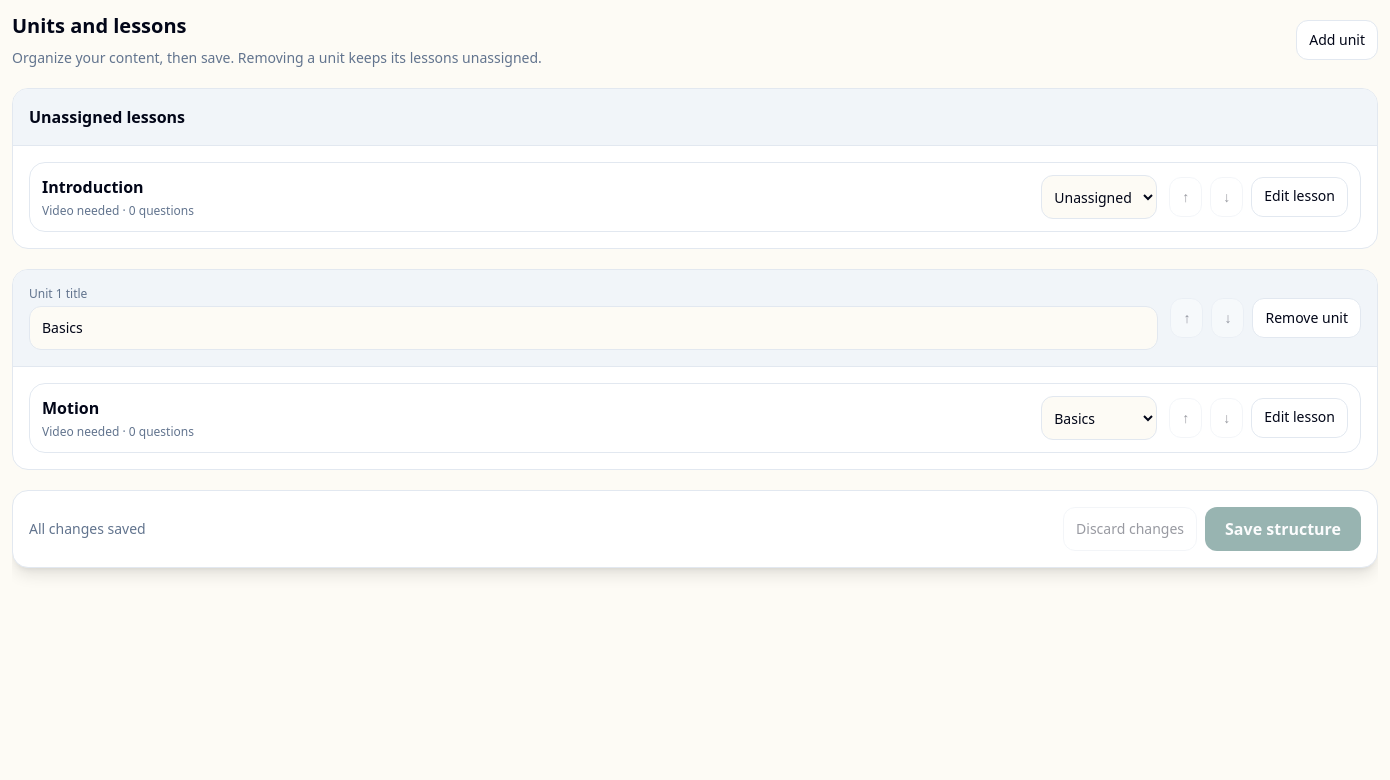
Scenario: course structure editor › moves lessons between units, and prevents overwriting a concurrent save
This screenshot has width=1390, height=780.
Select "Basics" in the dropdown named "Unit for Introduction" at (1099, 197), box [1041,175,1157,219]
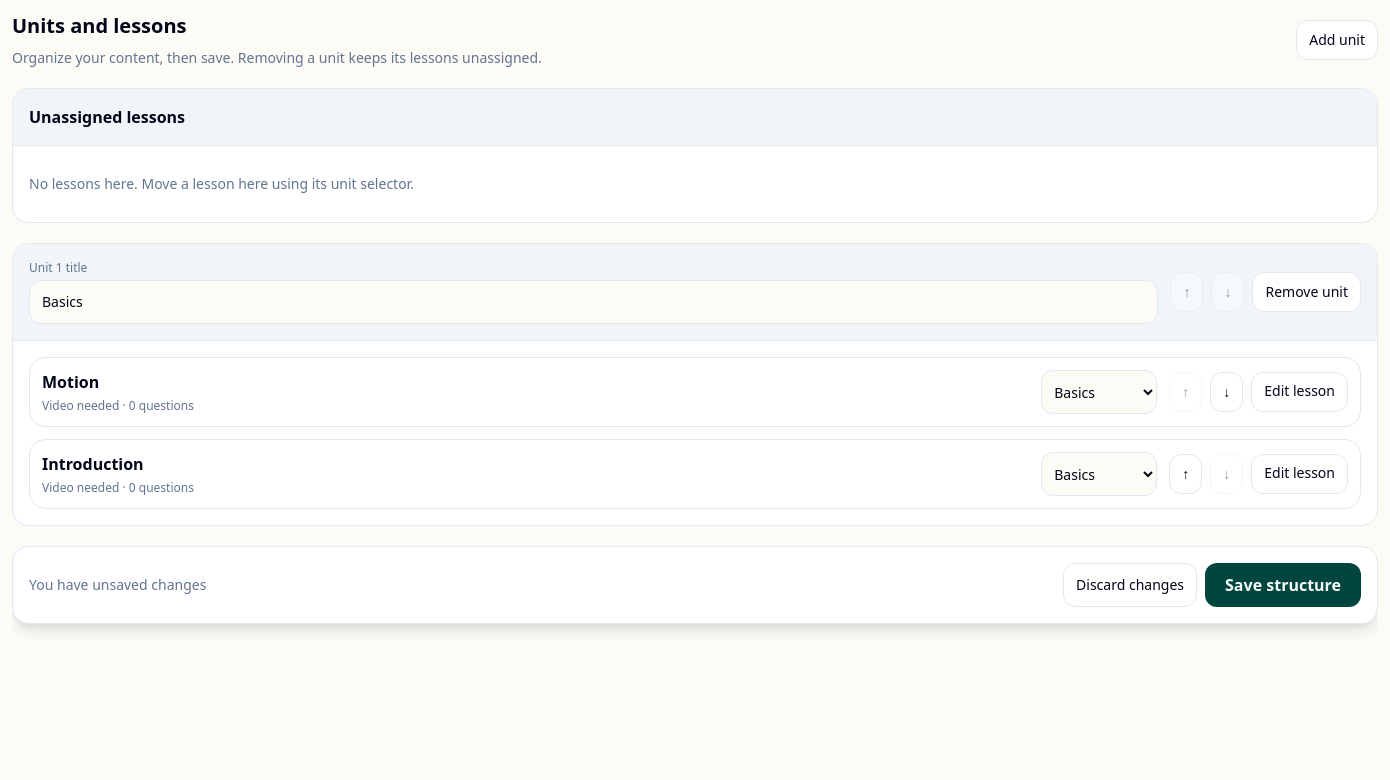
Click the button "Save structure".
click(1283, 585)  # box [1205,563,1361,607]
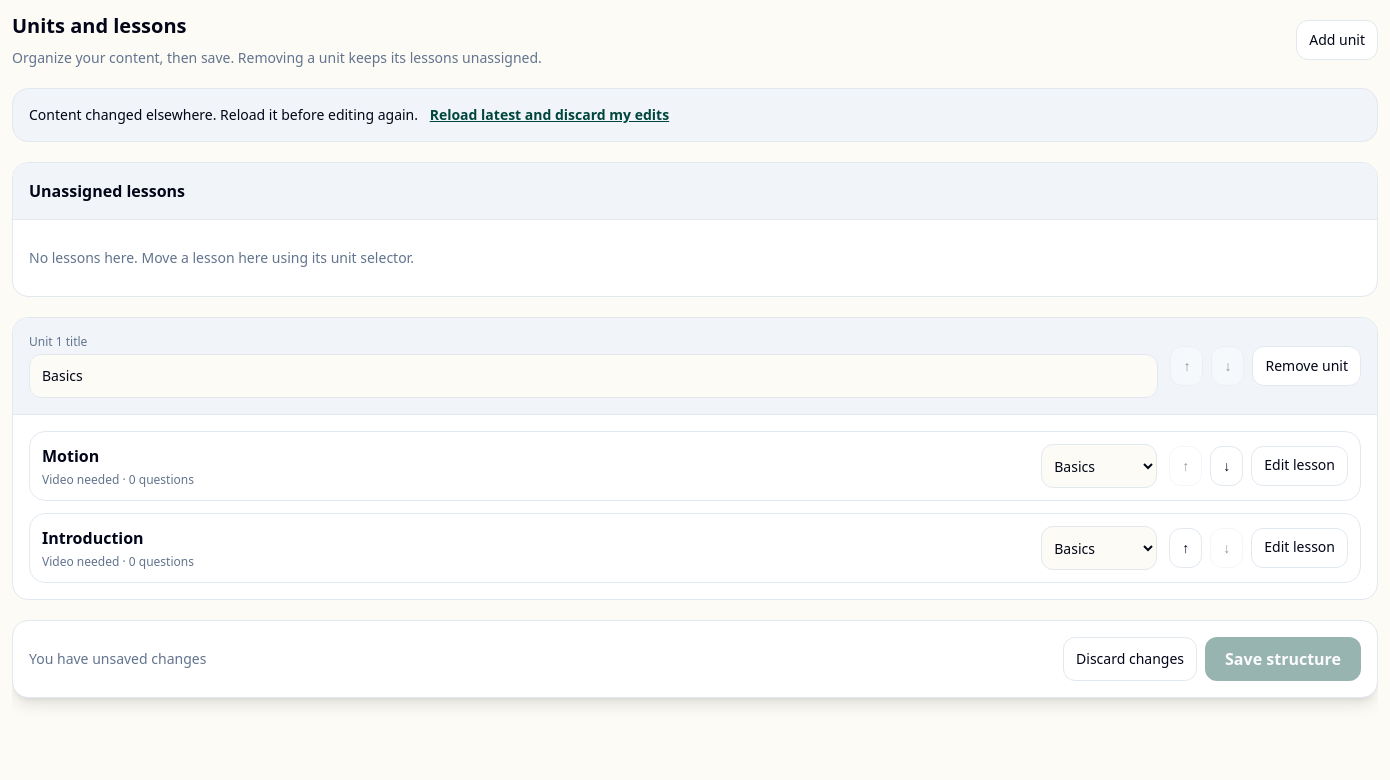
Expected: the text "Content changed elsewhere" is shown, [29,105,418,124]
Expected: the button "Save structure" is disabled, [1205,637,1361,681]
